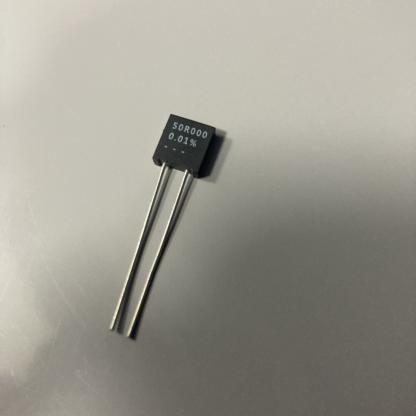SP0000008: (90, 88, 274, 357)
